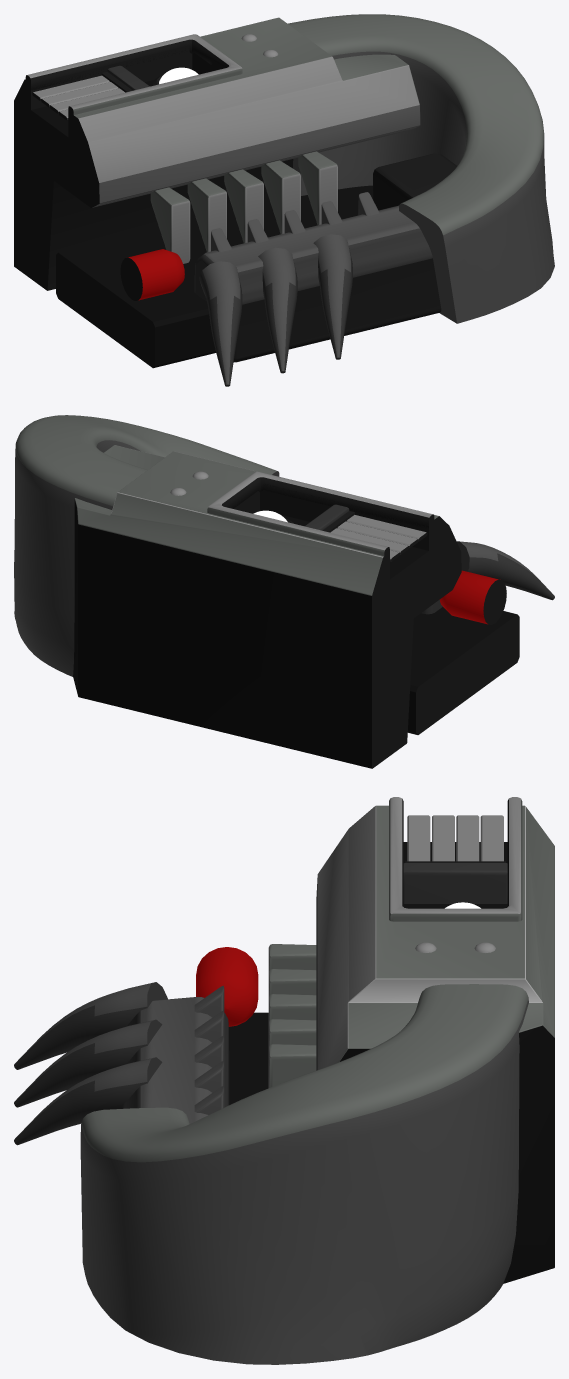
File: jaw_gun_b_right.glb
3 renders of one model, top to bottom at view 1: azimuth 30°, elevation 25°; view 2: azimuth 150°, elevation 25°; view 3: azimuth 270°, elevation 25°, orthographic. The views are drawn at different scales.
Visible parts, largest first — view 1: upper_jaw.001, hinge.001, lower_jaw.001, mouth_floor.001, bezel.001, fang2.001, fang1.001, fang0.001, cheek.001, throat_lamp.001, upper_tooth4.001, upper_tooth0.001 (+7 smaller); view 2: upper_jaw.001, hinge.001, mouth_floor.001, bezel.001, fang2.001, throat_lamp.001, slat0.001, slat1.001, slat2.001, divider.001; view 3: hinge.001, upper_jaw.001, lower_jaw.001, bezel.001, fang2.001, fang0.001, fang1.001, divider.001, throat_lamp.001, mouth_floor.001, upper_tooth0.001, upper_tooth1.001 (+7 smaller).
Boxes of the visible parts, box(x1,y1,x2,y2) form: upper_jaw.001: box(14, 17, 420, 290); hinge.001: box(288, 14, 554, 323); lower_jaw.001: box(194, 205, 441, 362); mouth_floor.001: box(56, 185, 372, 368); bezel.001: box(25, 34, 242, 123); fang2.001: box(199, 261, 242, 386); fang1.001: box(258, 247, 297, 373); fang0.001: box(313, 234, 352, 359); cheek.001: box(373, 153, 456, 210); throat_lamp.001: box(120, 249, 184, 300); upper_tooth4.001: box(150, 187, 190, 263); upper_tooth0.001: box(298, 151, 337, 225); upper_jaw.001: box(73, 445, 461, 768); hinge.001: box(14, 415, 279, 676); mouth_floor.001: box(407, 607, 519, 734); bezel.001: box(207, 471, 434, 564); fang2.001: box(456, 541, 554, 600); throat_lamp.001: box(439, 570, 506, 624); slat0.001: box(346, 515, 427, 541); slat1.001: box(337, 521, 418, 547); slat2.001: box(330, 528, 408, 554); divider.001: box(305, 504, 349, 530); hinge.001: box(80, 984, 528, 1364); upper_jaw.001: box(316, 805, 554, 1283); lower_jaw.001: box(121, 997, 229, 1123); bezel.001: box(389, 797, 522, 921); fang2.001: box(14, 982, 167, 1069); fang0.001: box(14, 1057, 162, 1145); fang1.001: box(14, 1019, 162, 1107); divider.001: box(403, 863, 507, 903); throat_lamp.001: box(196, 947, 258, 1026); mouth_floor.001: box(229, 1012, 268, 1104); upper_tooth0.001: box(268, 1044, 316, 1087); upper_tooth1.001: box(268, 1019, 316, 1047).
Bounding box in the file's own units: 22.94 × 10.42 × 18.24.
